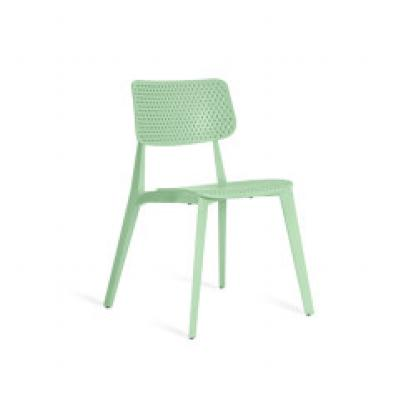chair: (110, 80, 322, 341)
